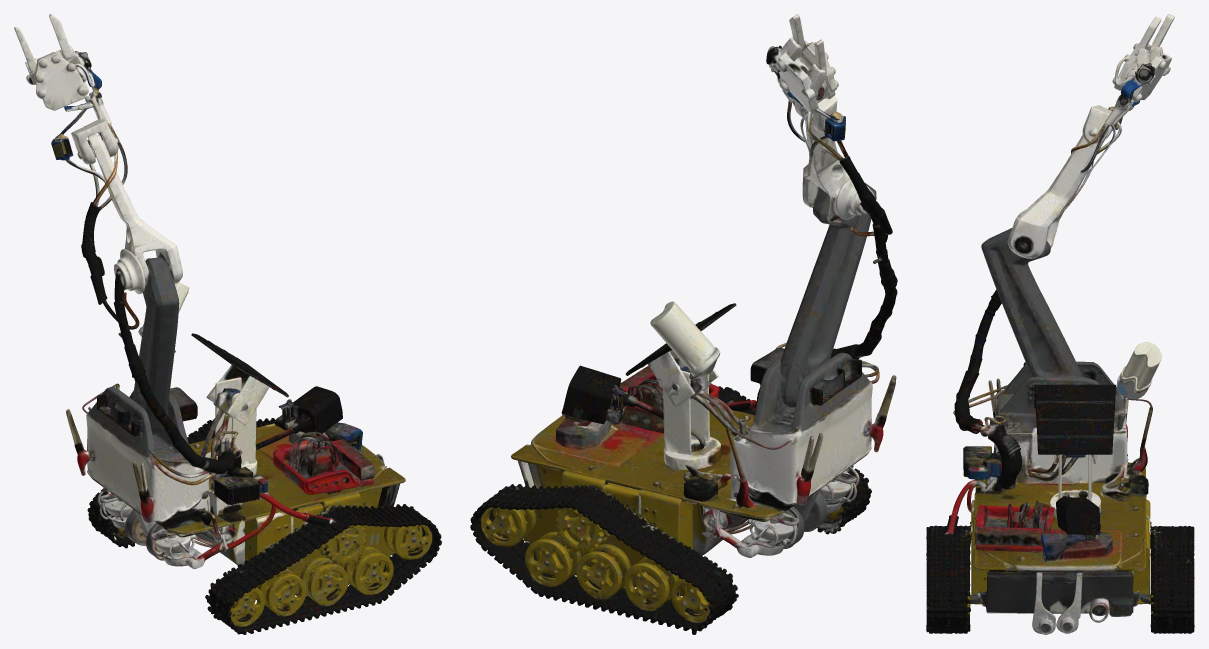
The model's file is rover.glb.
The picture shows the model from 3 angles, left to right: view 1: azimuth 30°, elevation 25°; view 2: azimuth 150°, elevation 25°; view 3: azimuth 270°, elevation 25°; orthographic projection. The views are drawn at different scales.
Size of the model in its own units: 1.12 by 1.9 by 0.8878.
1 material, 1 textured.
